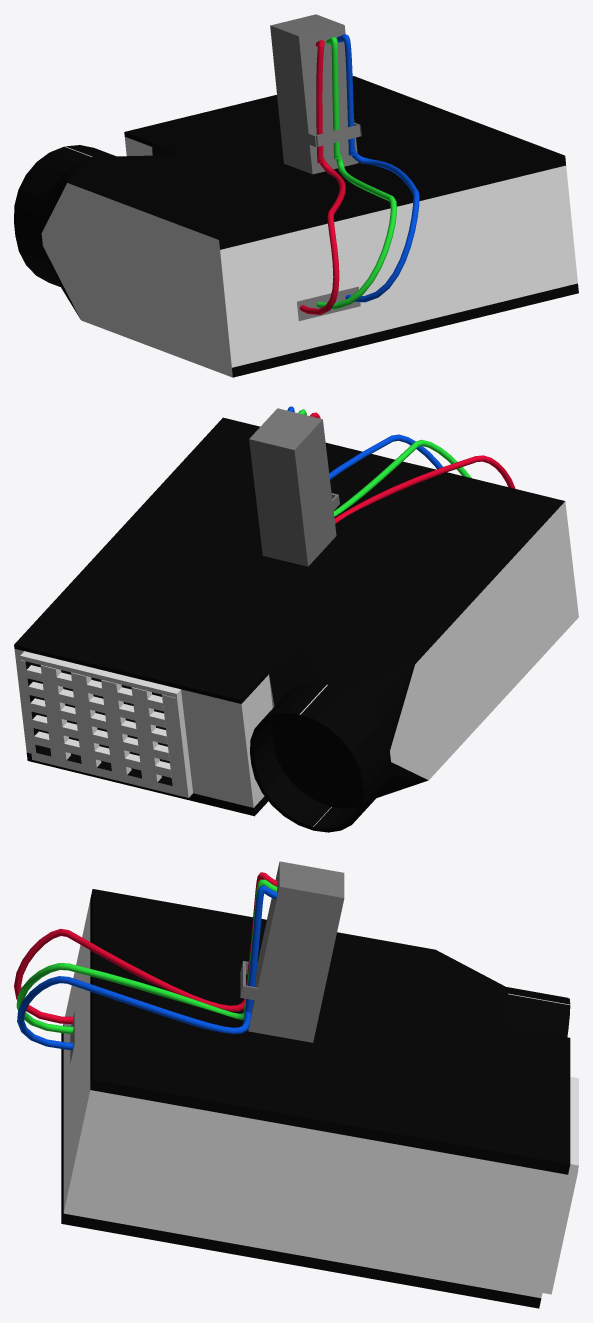
File: ProyectorUsarEsteSanti!!!!!!!!!!!.fbx
The picture shows the model from 3 angles, top to bottom: view 1: azimuth 30°, elevation 25°; view 2: azimuth 150°, elevation 25°; view 3: azimuth 270°, elevation 25°; orthographic projection. The views are drawn at different scales.
Parts seen in each view (by area): view 1: CableRojo; view 2: CableRojo; view 3: CableRojo.
Boxes of the visible parts, <box> form: CableRojo: <box>14,14,578,377</box>; CableRojo: <box>14,406,578,832</box>; CableRojo: <box>14,861,578,1308</box>.
Size of the model in its own units: 124 by 105 by 155.
